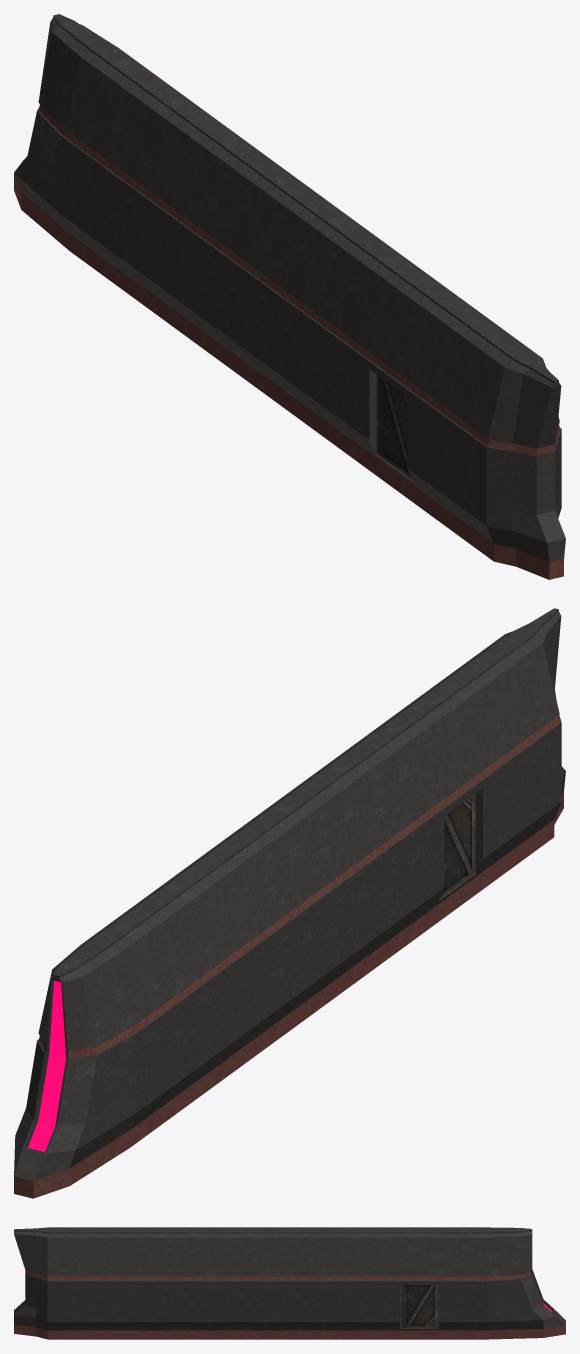
File: hazard_train.glb
3 renders of one model, top to bottom at view 1: azimuth 30°, elevation 25°; view 2: azimuth 150°, elevation 25°; view 3: azimuth 270°, elevation 25°, orthographic. The views are drawn at different scales.
Visible parts, largest first — view 1: train; view 2: train; view 3: train.
Boxes of the visible parts, x1=… form: train: x1=14, y1=14, x2=565, y2=579; train: x1=14, y1=608, x2=565, y2=1198; train: x1=14, y1=1227, x2=565, y2=1339.
Bounding box in the file's own units: 4 × 10 × 49.
4 materials, 3 textured.
